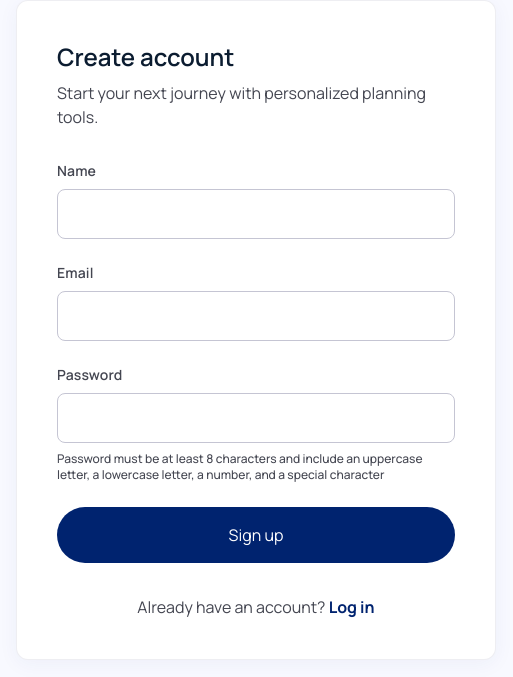
Test: RegisterPage › registers successfully and shows a check-your-email message (no auto-login)
The width and height of the screenshot is (513, 677).
Type "Jane" into the field labelled "Name" at (256, 214), box [57, 189, 455, 239]
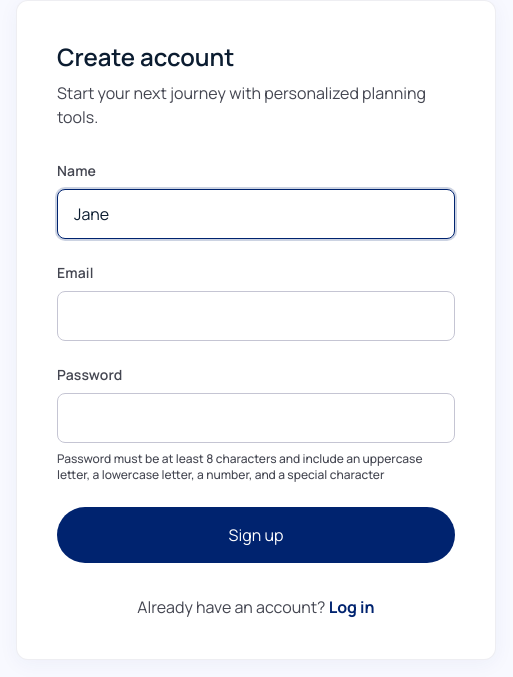
Type "new.user@example.com" into the field labelled "Email" at (256, 316), box [57, 291, 455, 341]
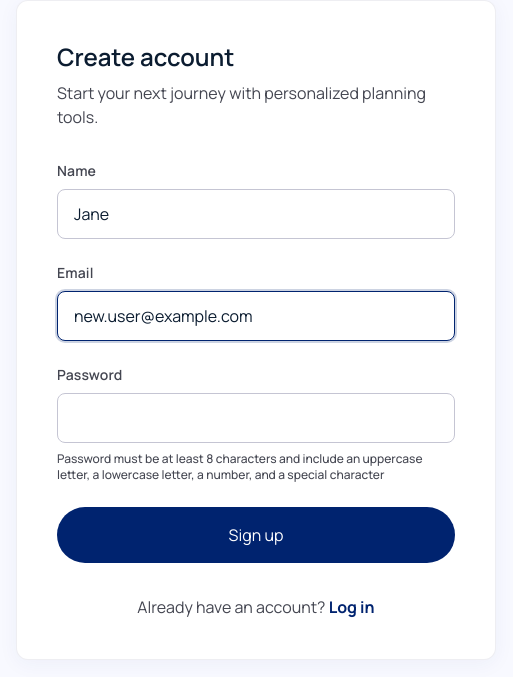
Type "Secret123!" into the password field labelled "Password" at (256, 418), box [57, 393, 455, 443]
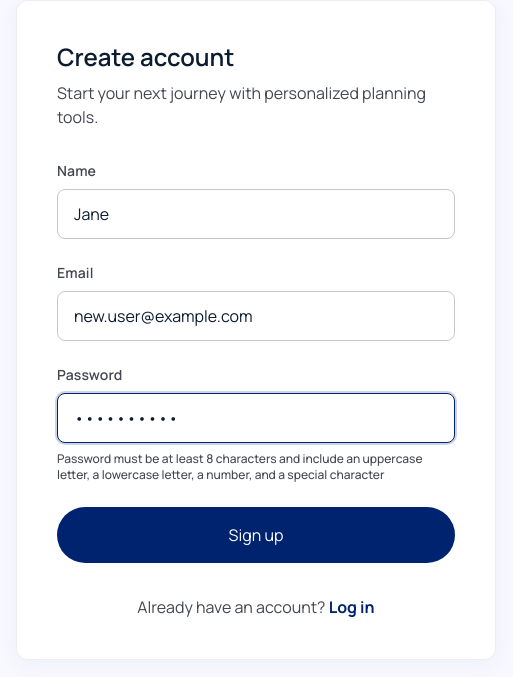
Click the button "Sign up" at (256, 535), box [57, 507, 455, 563]
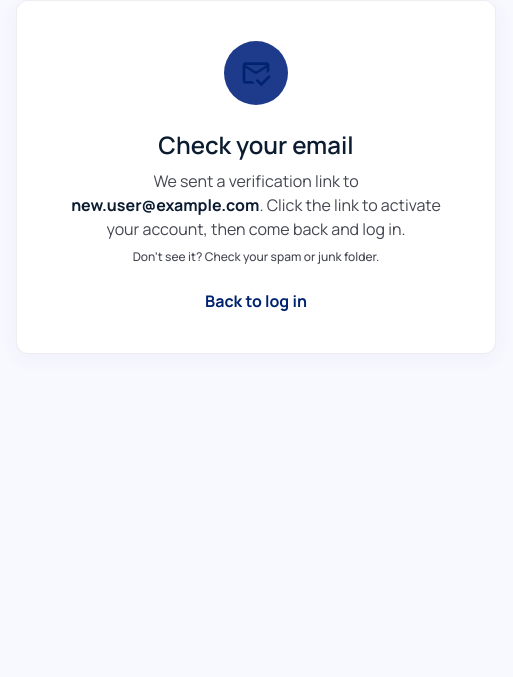
expect the heading "Check your email" is shown: met, box [158, 128, 354, 161]
expect the text "new.user@example.com" is shown: met, box [71, 194, 259, 216]
expect the text "Don't see it? Check your spam or junk folder." is shown: met, box [133, 248, 379, 265]
